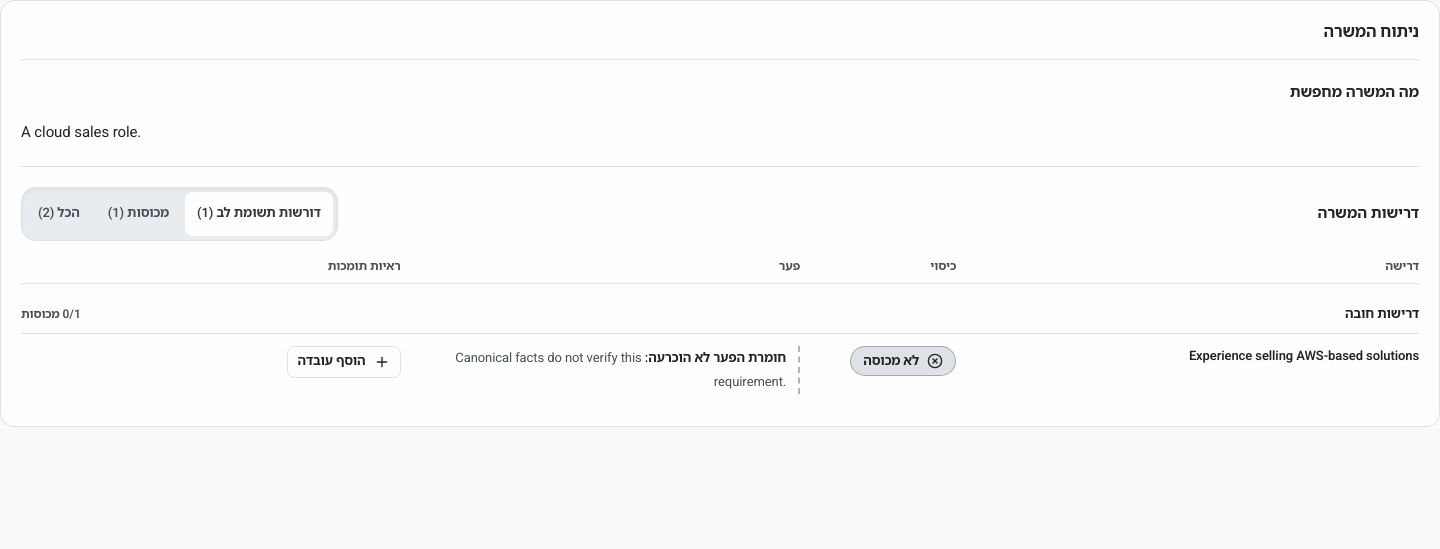
Test case: AnalysisPanel › opens on the requirements needing attention, each shown once with its reason
Expected: the text "Experience selling AWS-based solutions" is shown once, [1189, 346, 1419, 365]
Expected: the text "Canonical facts do not verify this requirement." is shown, [455, 348, 786, 391]
Click the button "הכל (2)" at (59, 214), box [26, 192, 92, 236]
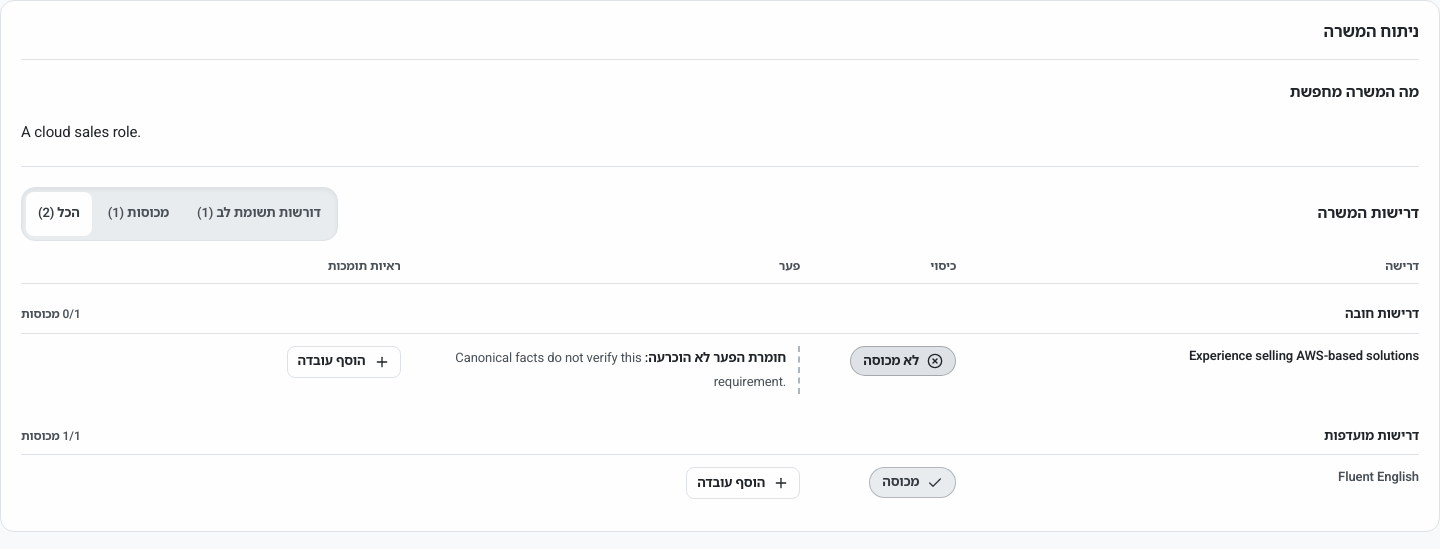
Now the list named "דרישות מועדפות" is shown, box [686, 468, 800, 500]
Now the text "Fluent English" is shown, box [1338, 468, 1419, 486]
